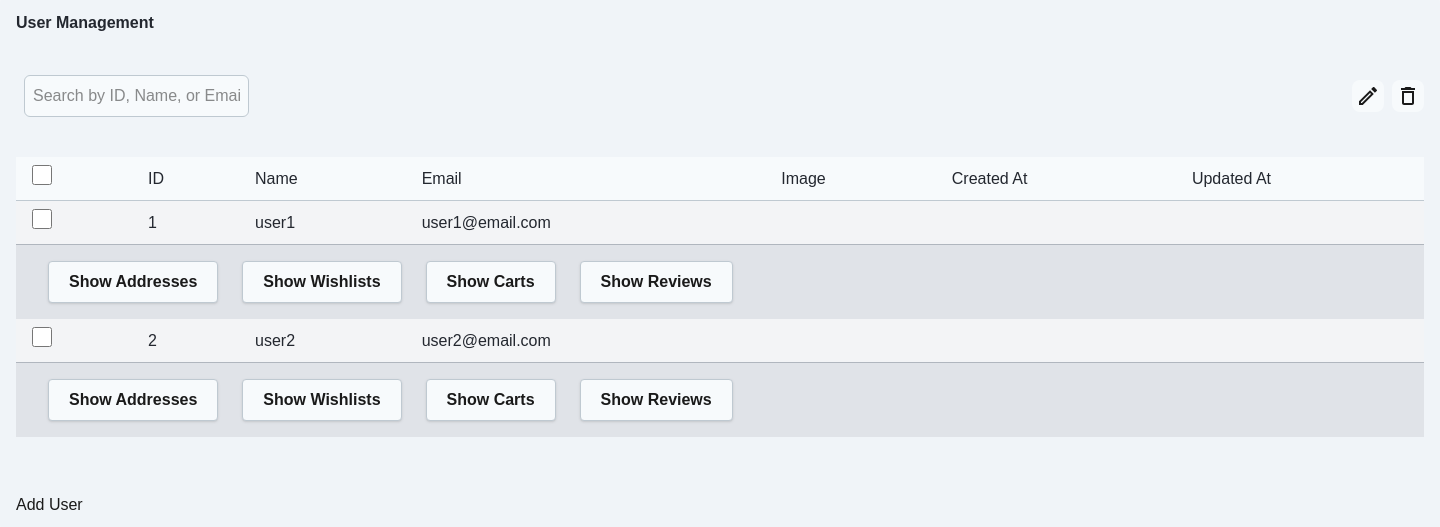
UserTable › shows alert if trying to delete with nothing selected
Click the button titled "delete selected user" at (1408, 96), box [1392,80,1424,112]
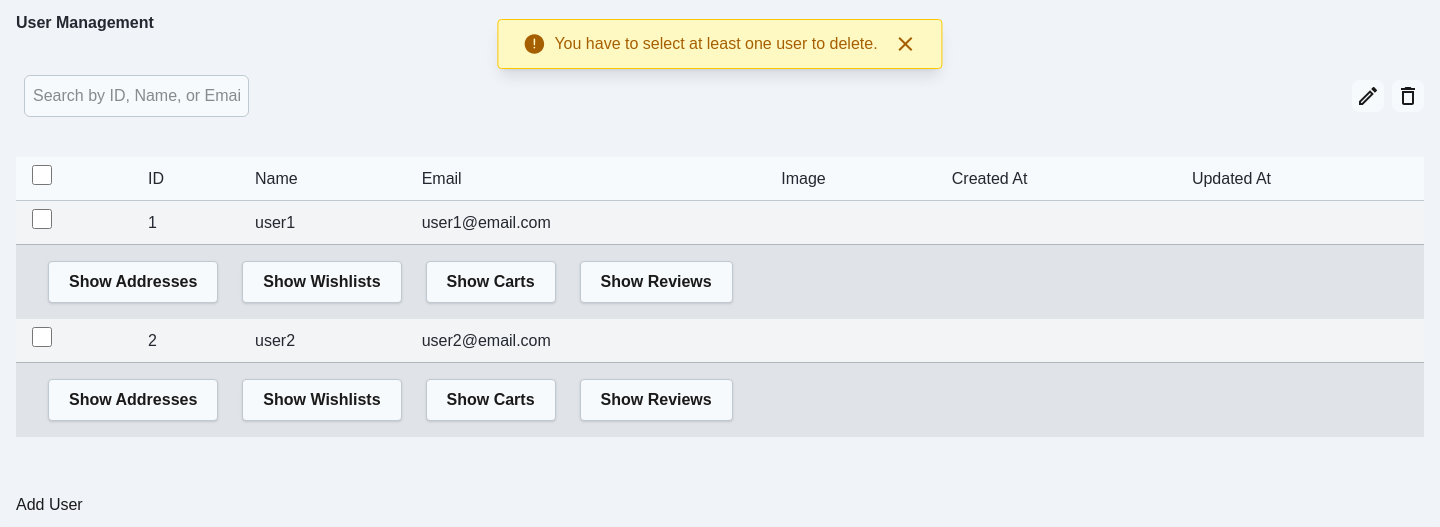
Now the text "You have to select at least one user to delete." is shown, box [554,32,878,56]
